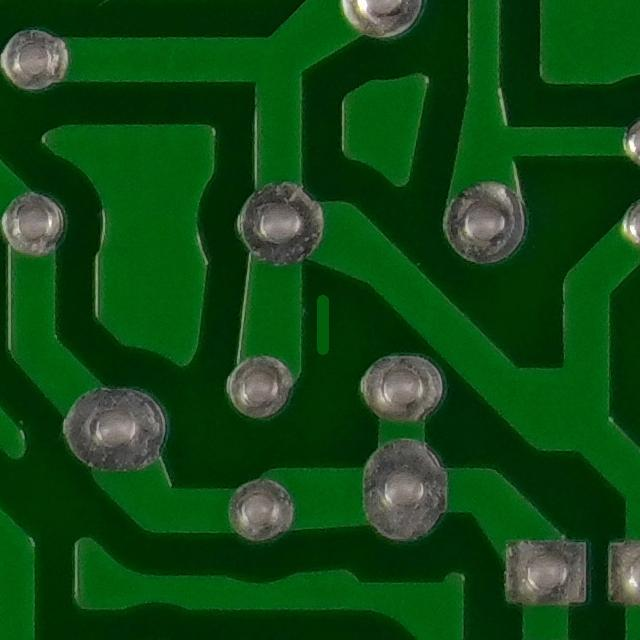spurious_copper: (298, 278, 343, 362)
